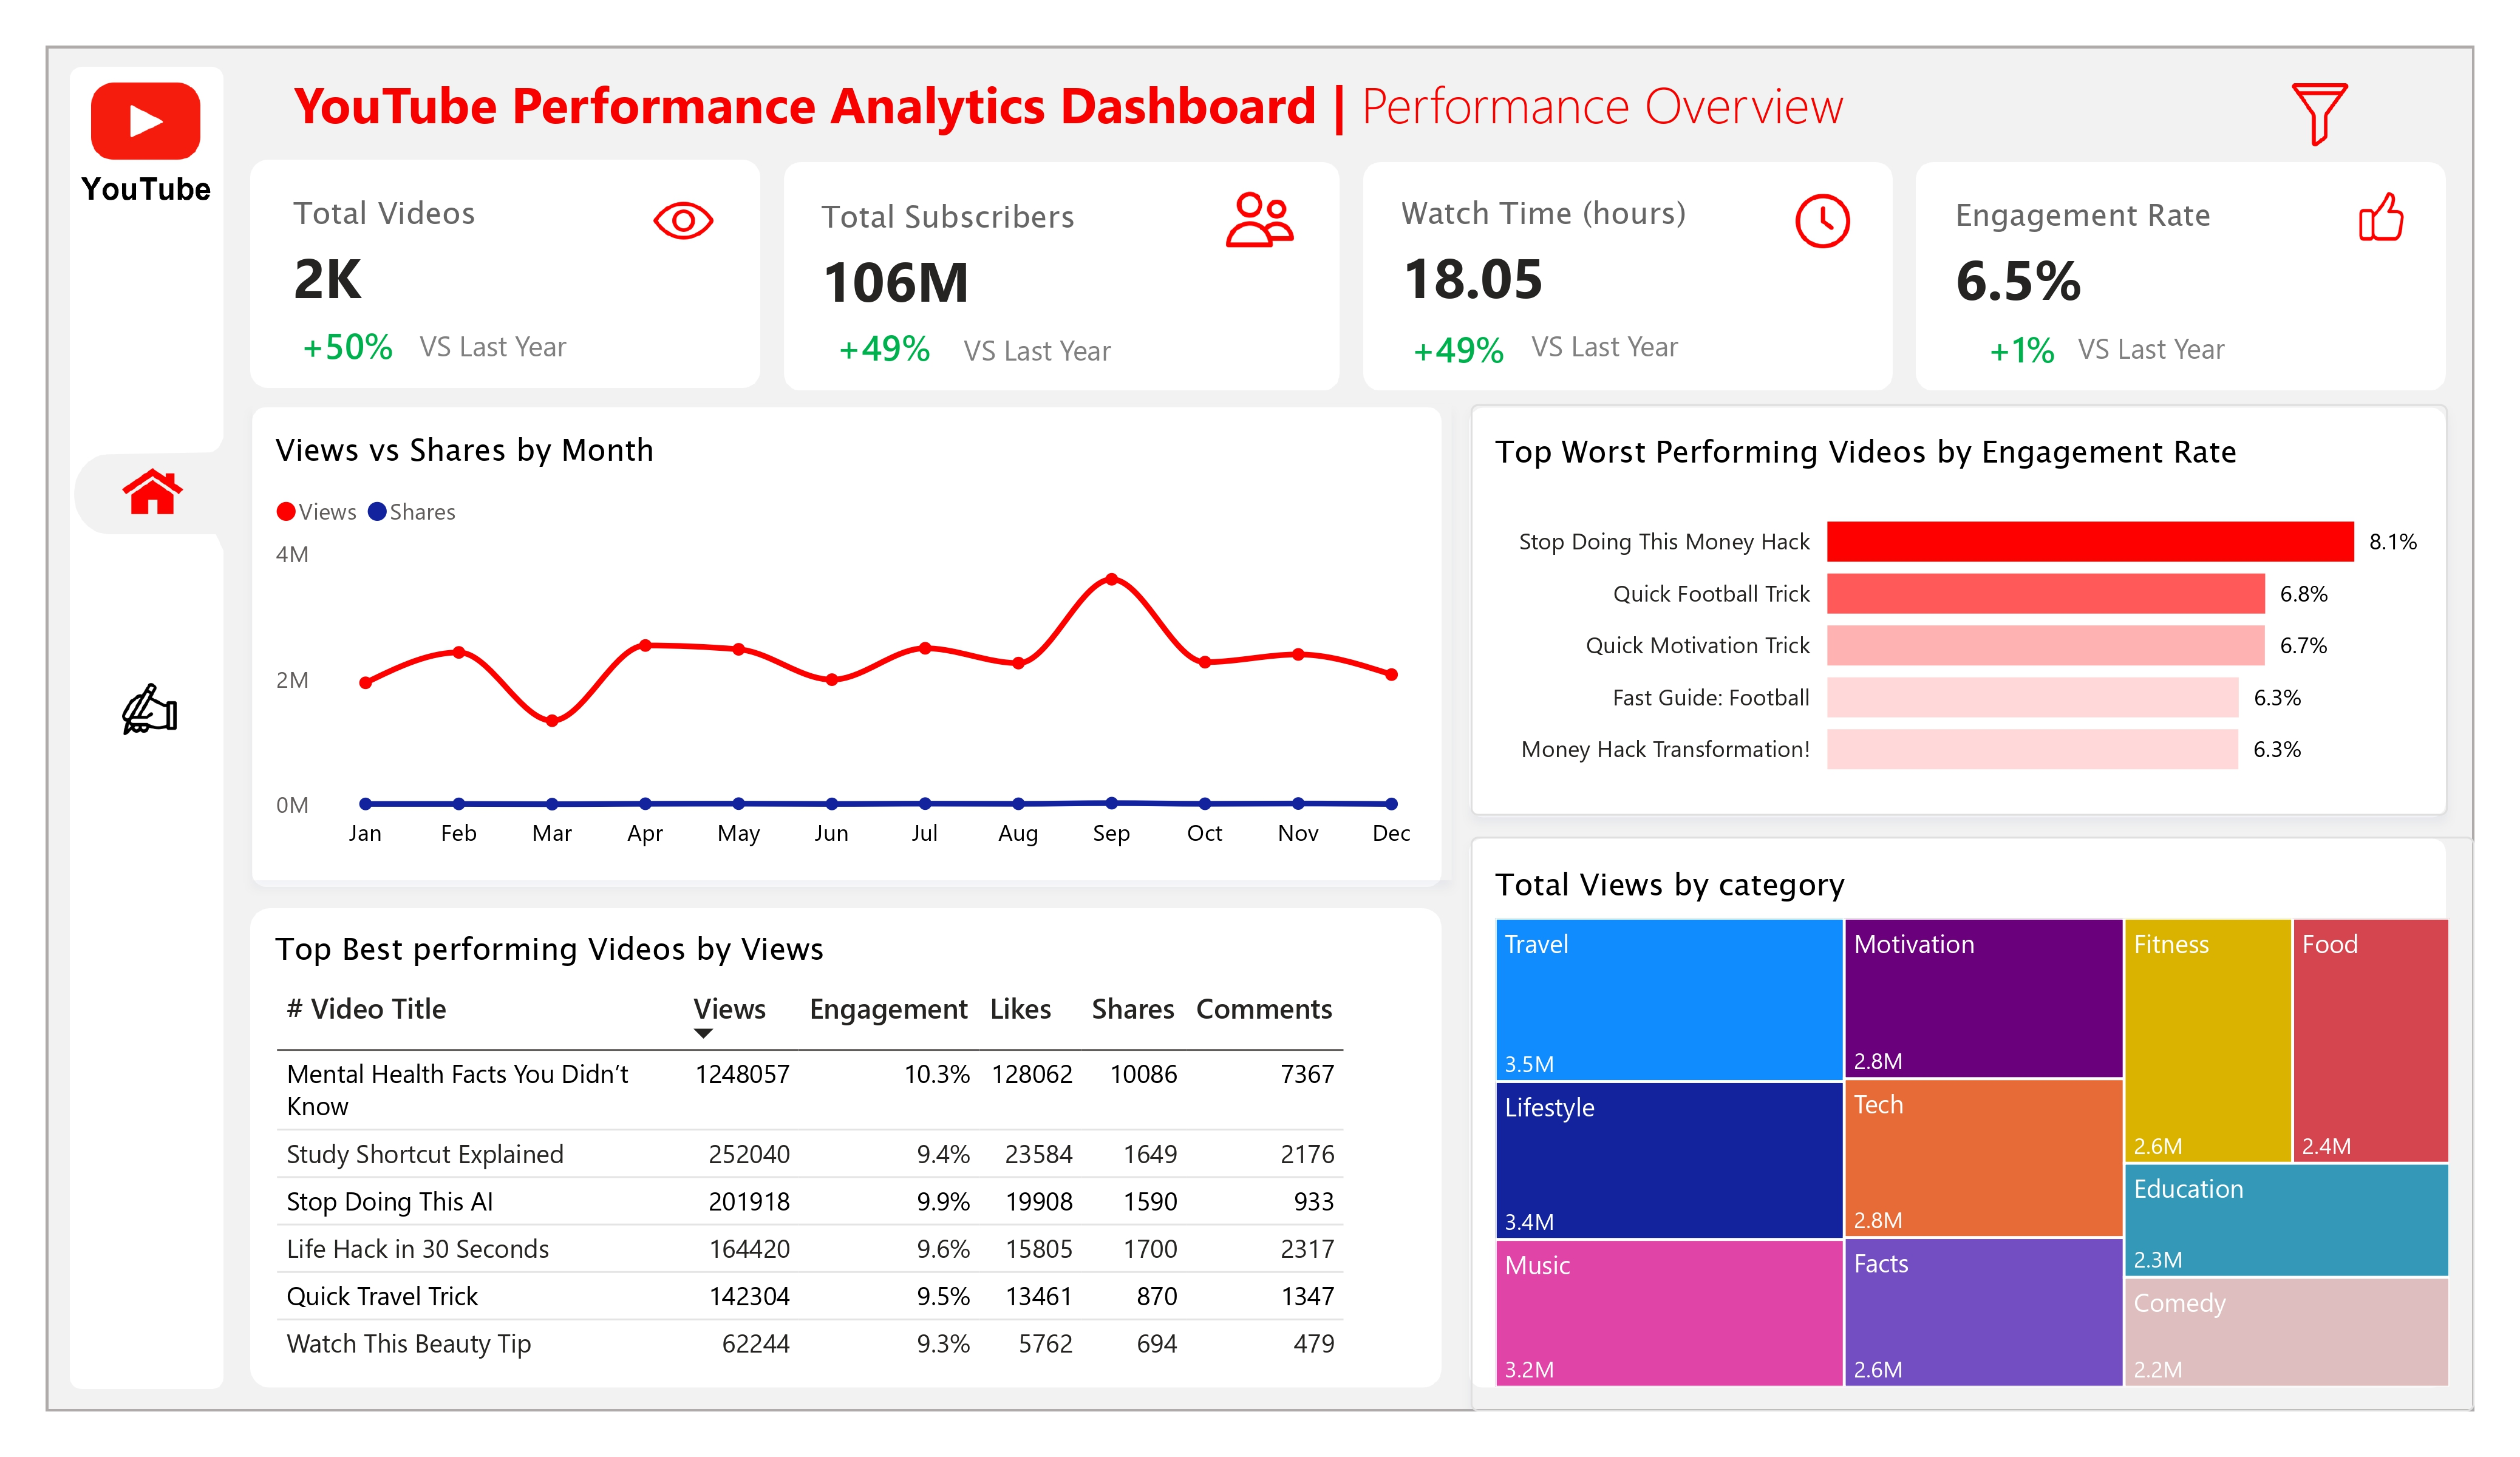

What the dashboard file says about the page in this screenshot:
{"tool":"powerbi","page":{"name":"Performance Overview","canvas":[1280,720],"ordinal":0},"visuals":[{"type":"cardVisual","title":"Total Videos ","fields":{"Data":["DAX Measures.Total Videos"]},"box":[109,59,268,119],"z":0},{"type":"lineChart","title":"Views vs Shares by Month","fields":{"Y":["DAX Measures.Total Views","DAX Measures.Total Shares"],"Category":["Date Table.Month Abbreviation"]},"box":[109.2,188.5,632.2,251.7],"z":1000},{"type":"tableEx","title":"Top Best performing Videos by Views","fields":{"Values":["Dimension Table.title","DAX Measures.Total Views","DAX Measures.Engagement Rate","DAX Measures.Total Likes","DAX Measures.Total Shares","DAX Measures.Total Comments"]},"box":[109.2,451.7,632.2,267.8],"z":2000},{"type":"cardVisual","fields":{"Data":["DAX Measures.Total Video % Change"]},"box":[109.2,133.3,100,44.8],"z":3000},{"type":"cardVisual","title":"Total Shares ","fields":{"Data":["DAX Measures.Total Subscribers"]},"box":[387,59,297,123],"z":4000},{"type":"cardVisual","title":"Total Likes ","fields":{"Data":["DAX Measures.Watch Time (hours)"]},"box":[693.3,56.5,280,123.1],"z":5000},{"type":"cardVisual","title":"Engagement Rate","fields":{"Data":["DAX Measures.Engagement Rate"]},"box":[985.1,59.8,278.2,118.4],"z":6000},{"type":"cardVisual","fields":{"Data":["DAX Measures.Total Subscribers % Change"]},"box":[387.4,133.3,109.2,46],"z":7000},{"type":"cardVisual","fields":{"Data":["DAX Measures.Watch Time (Hours) % Change"]},"box":[693.3,133.2,102.8,48.6],"z":8000},{"type":"cardVisual","fields":{"Data":["DAX Measures.Engagement Rate % Change"]},"box":[985.1,133.3,112.6,48.3],"z":9000},{"type":"textbox","box":[192,142.5,90.8,33.3],"z":10000},{"type":"textbox","box":[479.3,144.8,90.8,33.3],"z":11000},{"type":"textbox","box":[778,143.4,90.3,33.9],"z":12000},{"type":"textbox","box":[1065.5,143.7,89.7,33.3],"z":13000},{"type":"textbox","box":[126.5,6.8,846.9,46.3],"z":14000},{"type":"barChart","title":"Top Worst Performing Videos by Engagement Rate","fields":{"Category":["Dimension Table.title"],"Y":["DAX Measures.Engagement Rate"]},"box":[750.6,188.5,514.9,217.2],"z":15000},{"type":"treemap","fields":{"Group":["Dimension Table.category"],"Values":["DAX Measures.Total Views"]},"box":[750.6,417.2,529.9,302.3],"z":16000},{"type":"image","title":"Filter","box":[1181.6,17.2,33.3,39.1],"z":17000},{"type":"actionButton","box":[15.6,327.2,82.6,40.2],"z":19000}]}

Visuals, with their boxes on the page's 1280x720 design canvas (x1, y1, x2, y2). These are canvas units, not pixel positions in the 2520x1457 screenshot, which may show the page scaled, cropped or inside an application window:
"Total Videos " cardVisual: Rect(109, 59, 377, 178)
"Views vs Shares by Month" lineChart: Rect(109, 188, 741, 440)
"Top Best performing Videos by Views" tableEx: Rect(109, 452, 741, 720)
cardVisual - DAX Measures.Total Video % Change: Rect(109, 133, 209, 178)
"Total Shares " cardVisual: Rect(387, 59, 684, 182)
"Total Likes " cardVisual: Rect(693, 56, 973, 180)
"Engagement Rate" cardVisual: Rect(985, 60, 1263, 178)
cardVisual - DAX Measures.Total Subscribers % Change: Rect(387, 133, 497, 179)
cardVisual - DAX Measures.Watch Time (Hours) % Change: Rect(693, 133, 796, 182)
cardVisual - DAX Measures.Engagement Rate % Change: Rect(985, 133, 1098, 182)
textbox: Rect(192, 142, 283, 176)
textbox: Rect(479, 145, 570, 178)
textbox: Rect(778, 143, 868, 177)
textbox: Rect(1066, 144, 1155, 177)
textbox: Rect(126, 7, 973, 53)
"Top Worst Performing Videos by Engagement Rate" barChart: Rect(751, 188, 1266, 406)
treemap - Dimension Table.category x DAX Measures.Total Views: Rect(751, 417, 1280, 720)
"Filter" image: Rect(1182, 17, 1215, 56)
actionButton: Rect(16, 327, 98, 367)
